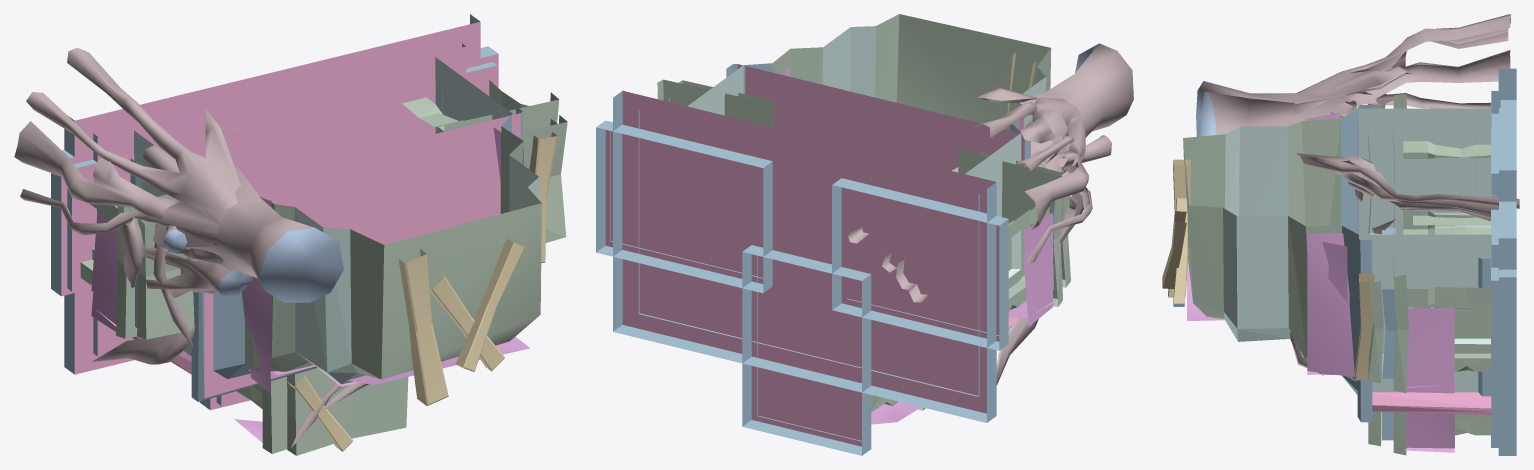
3 renders of one model, left to right at view 1: azimuth 30°, elevation 25°; view 2: azimuth 150°, elevation 25°; view 3: azimuth 270°, elevation 25°, orthographic. The views are drawn at different scales.
Visible parts, largest first — view 1: Object41; view 2: Object41; view 3: Object41.
Part boxes in pixels (box(x1,y1,x2,y2)): Object41: box(14, 14, 567, 455); Object41: box(596, 14, 1133, 455); Object41: box(1162, 14, 1519, 455).
Bounding box in the file's own units: 8648 × 6756 × 6547.
